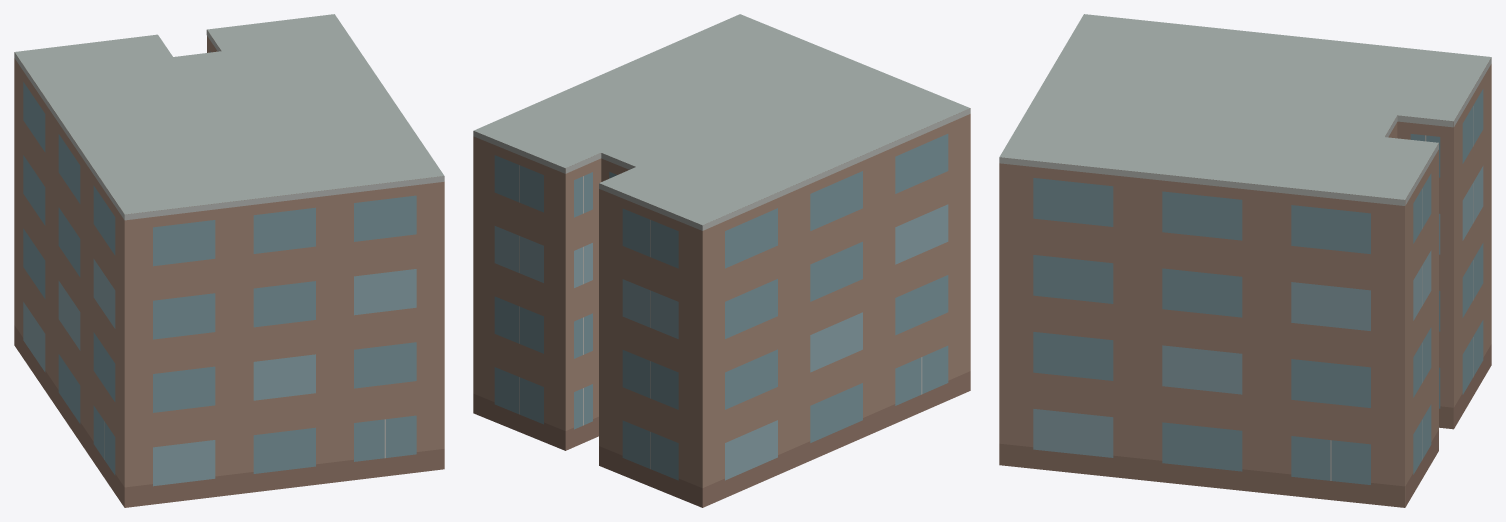
The model's file is residential-e3069b4a-1fe9-4185-9a91-c20f6a4ca4cb.glb.
3 renders of one model, left to right at view 1: azimuth 30°, elevation 25°; view 2: azimuth 150°, elevation 25°; view 3: azimuth 270°, elevation 25°, orthographic. The views are drawn at different scales.
Parts seen in each view (by area): view 1: residential-e3069b4a-1fe9-4185-9a91-c20f6a4ca4cb.tmp; view 2: residential-e3069b4a-1fe9-4185-9a91-c20f6a4ca4cb.tmp; view 3: residential-e3069b4a-1fe9-4185-9a91-c20f6a4ca4cb.tmp.
Part boxes in pixels (x1=…): residential-e3069b4a-1fe9-4185-9a91-c20f6a4ca4cb.tmp: x1=14, y1=14, x2=444, y2=507; residential-e3069b4a-1fe9-4185-9a91-c20f6a4ca4cb.tmp: x1=473, y1=14, x2=970, y2=507; residential-e3069b4a-1fe9-4185-9a91-c20f6a4ca4cb.tmp: x1=999, y1=14, x2=1491, y2=507.
Bounding box in the file's own units: 15.81 × 12.2 × 17.69.
